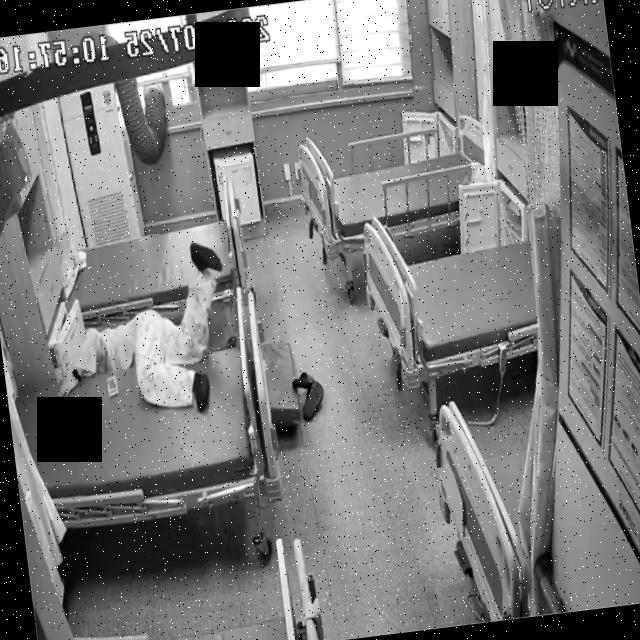bed: (8, 282, 285, 535), (49, 163, 252, 341), (358, 202, 541, 386), (297, 122, 478, 258)
danger: (39, 239, 240, 442)
patient: (38, 238, 240, 436)
